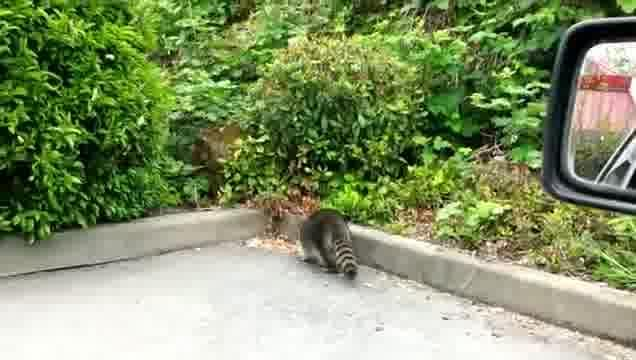raccoon: (297, 209, 360, 281)
